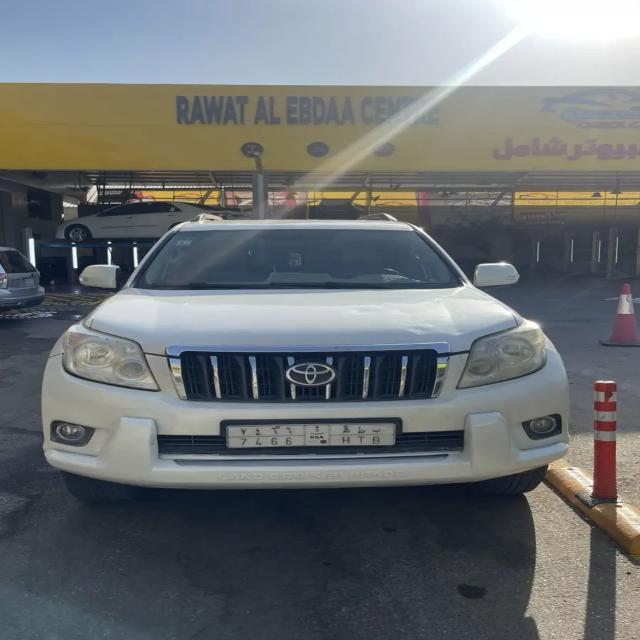license_plate: (221, 421, 398, 452)
